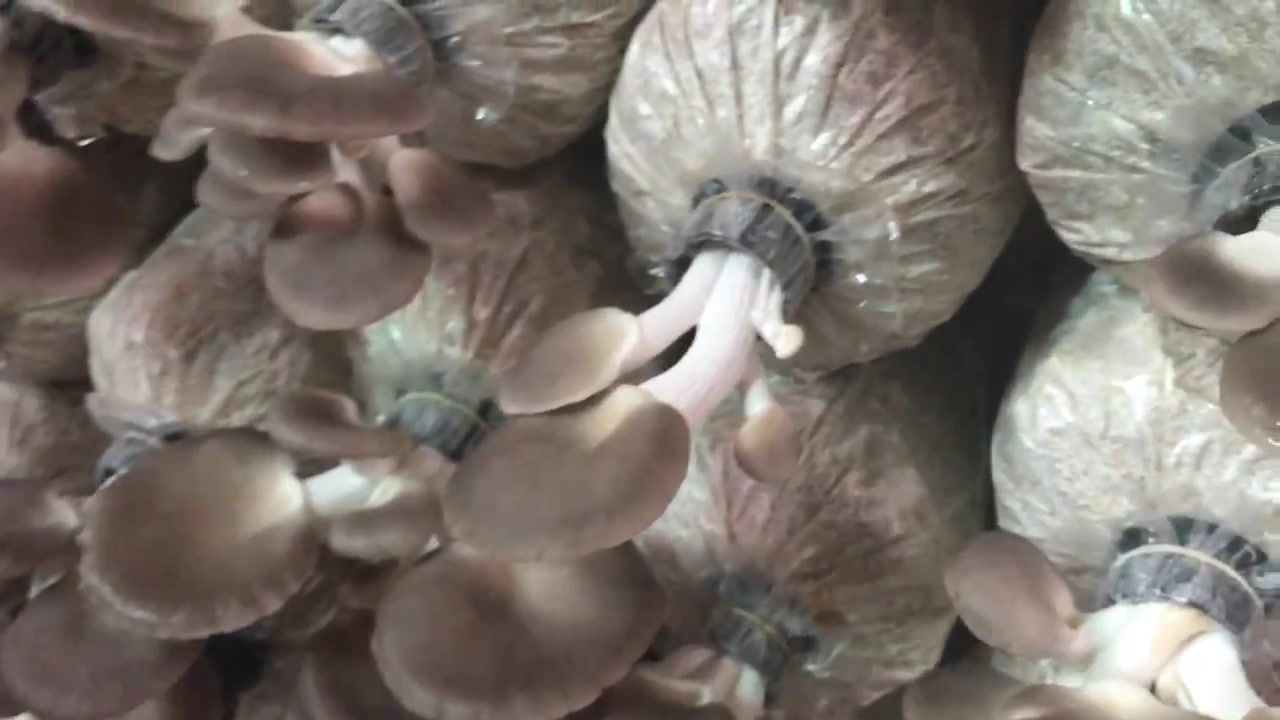nam: (86, 387, 663, 720), (446, 187, 820, 557), (188, 1, 498, 337), (900, 516, 1276, 720), (1156, 131, 1280, 443)
